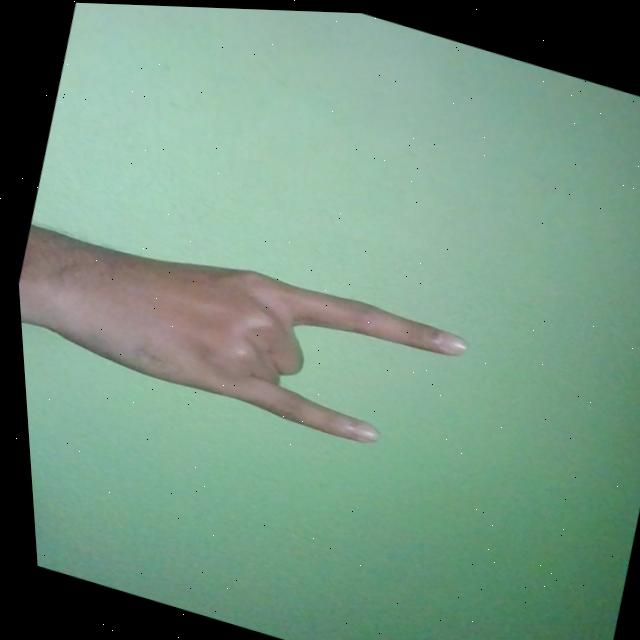Rock On: (11, 205, 474, 467)
